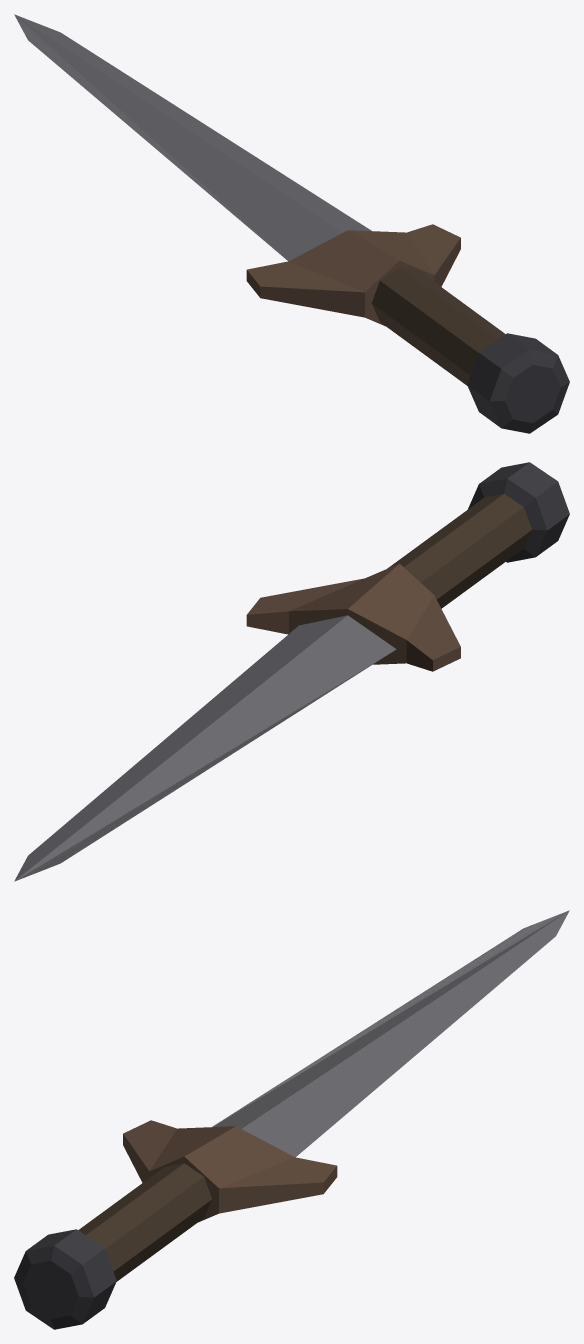
The model's file is Dagger.fbx.
3 renders of one model, top to bottom at view 1: azimuth 30°, elevation 25°; view 2: azimuth 150°, elevation 25°; view 3: azimuth 330°, elevation 25°, orthographic.
Visible parts, largest first — view 1: pPlane468; view 2: pPlane468; view 3: pPlane468.
Boxes of the visible parts, bbox=[...] form: pPlane468: bbox=[14, 14, 569, 433]; pPlane468: bbox=[14, 462, 569, 881]; pPlane468: bbox=[14, 910, 569, 1329].
Size of the model in its own units: 14.36 by 5.76 by 64.35.
